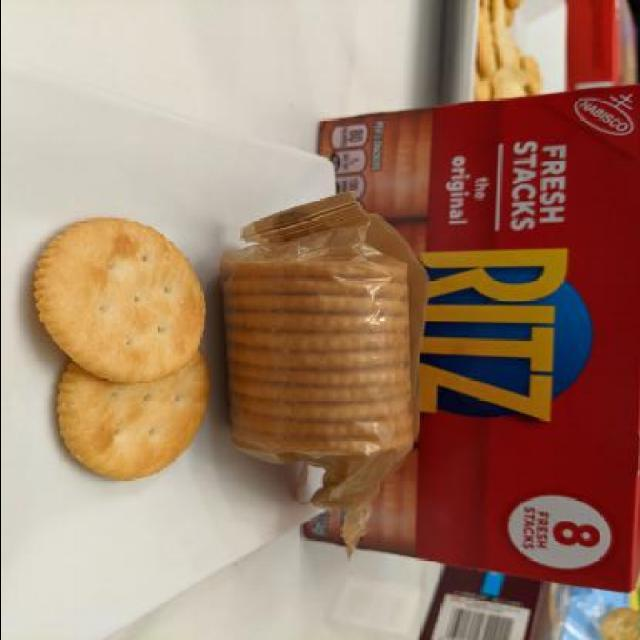Ritz cracker packaged: (37, 213, 221, 495)
